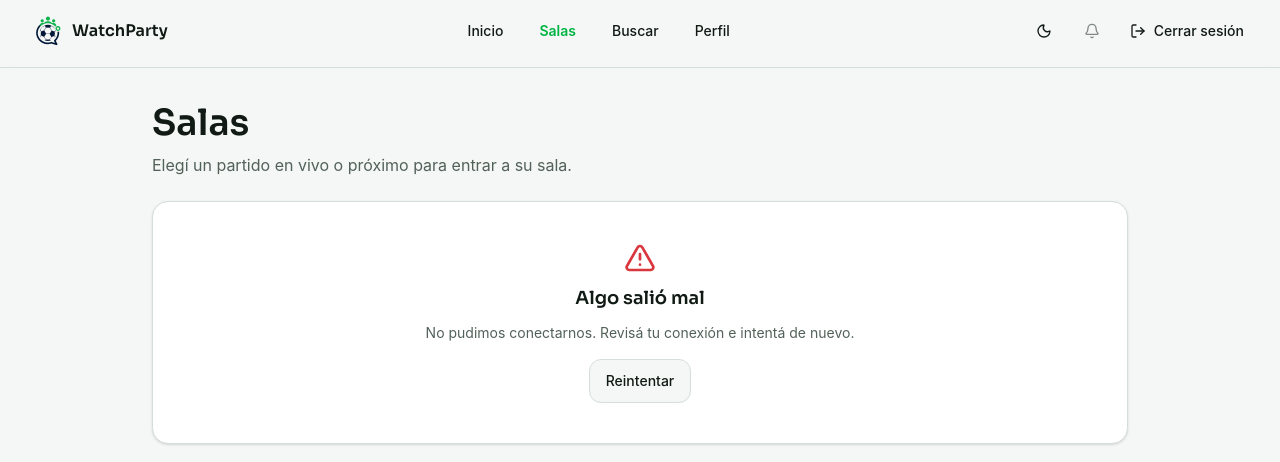
Test: Directorio de salas — errores y reintento › el reintento vuelve a consultar la API
Expected: the message is shown, [152,201,1128,444]
Step 1. Click the button "Reintentar" → (640, 381), box [589,359,691,403]
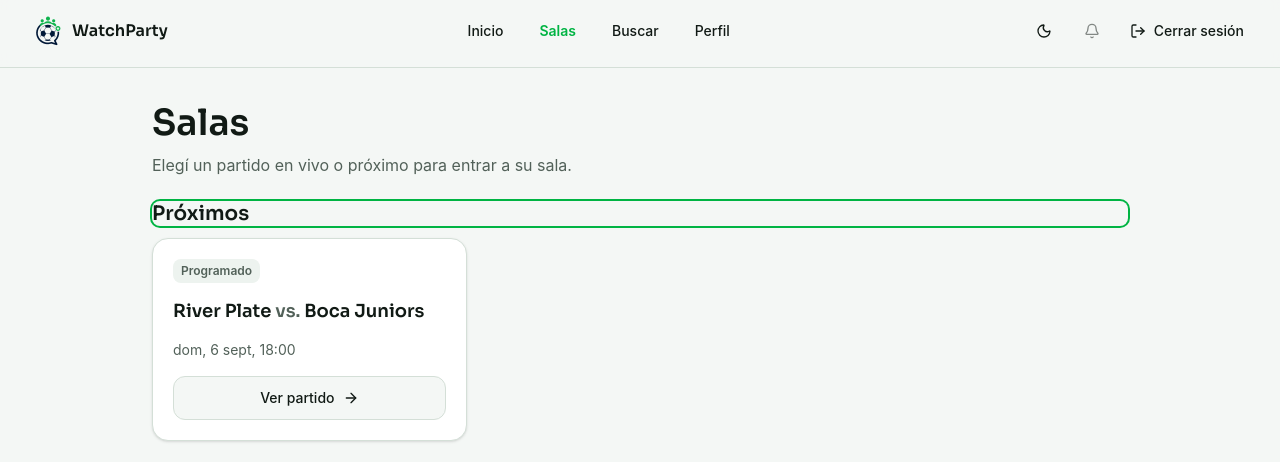
Now the message is gone
